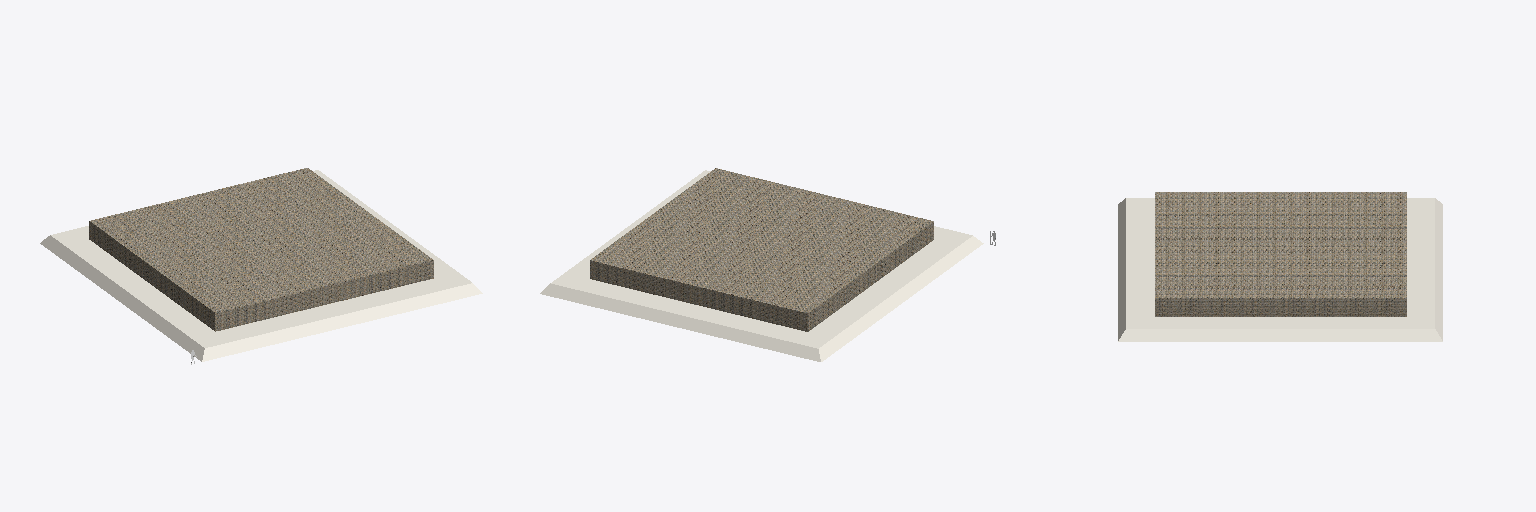
3 views of the same model, side by side, from view 1: azimuth 30°, elevation 25°; view 2: azimuth 150°, elevation 25°; view 3: azimuth 270°, elevation 25° (orthographic).
Parts seen in each view (by area): view 1: Mesh1 Model; view 2: Mesh1 Model; view 3: Mesh1 Model.
Part boxes in pixels (bbox=[...]): Mesh1 Model: bbox=[40, 168, 482, 361]; Mesh1 Model: bbox=[540, 168, 983, 361]; Mesh1 Model: bbox=[1118, 192, 1442, 341].
Size of the model in its own units: 32.81 by 3 by 31.62.
Materials: 3 (2 with a texture image).